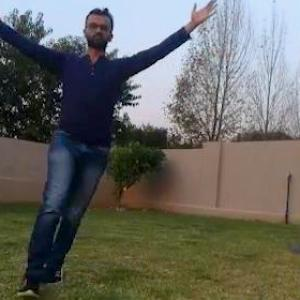takeoff: (0, 6, 206, 276)
